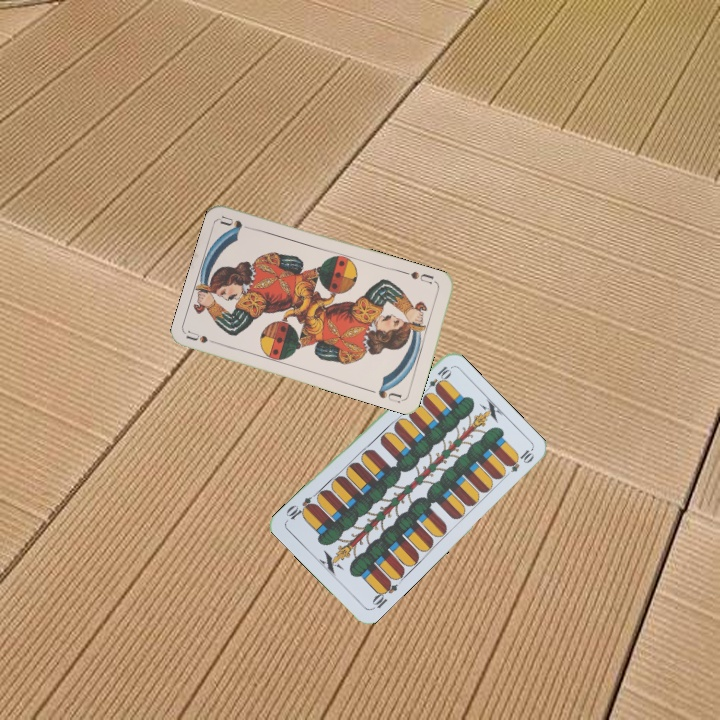E10: (420, 362, 453, 397), (368, 576, 400, 612)
SU: (183, 327, 224, 348), (406, 267, 436, 286)
